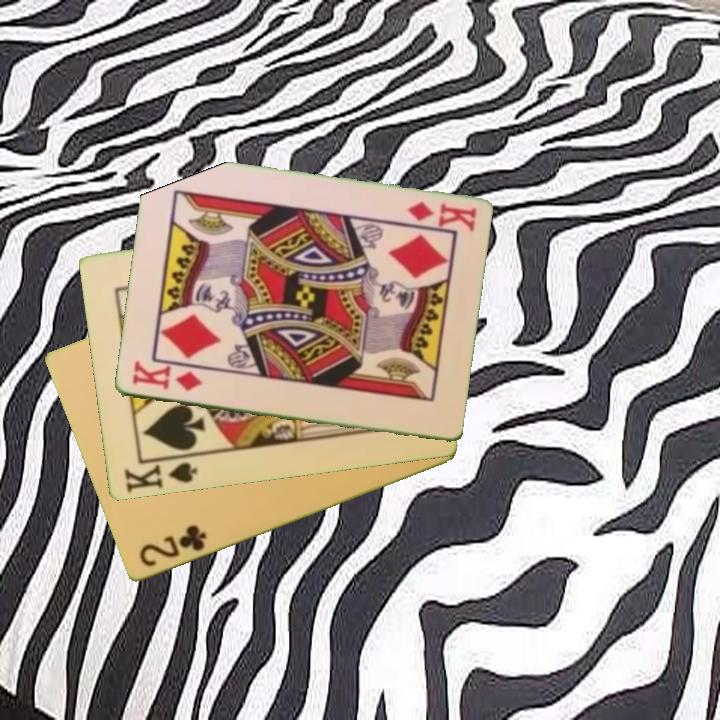2c: (135, 522, 210, 571)
Kd: (403, 198, 479, 234), (128, 360, 205, 395)
Ks: (120, 459, 200, 496)
